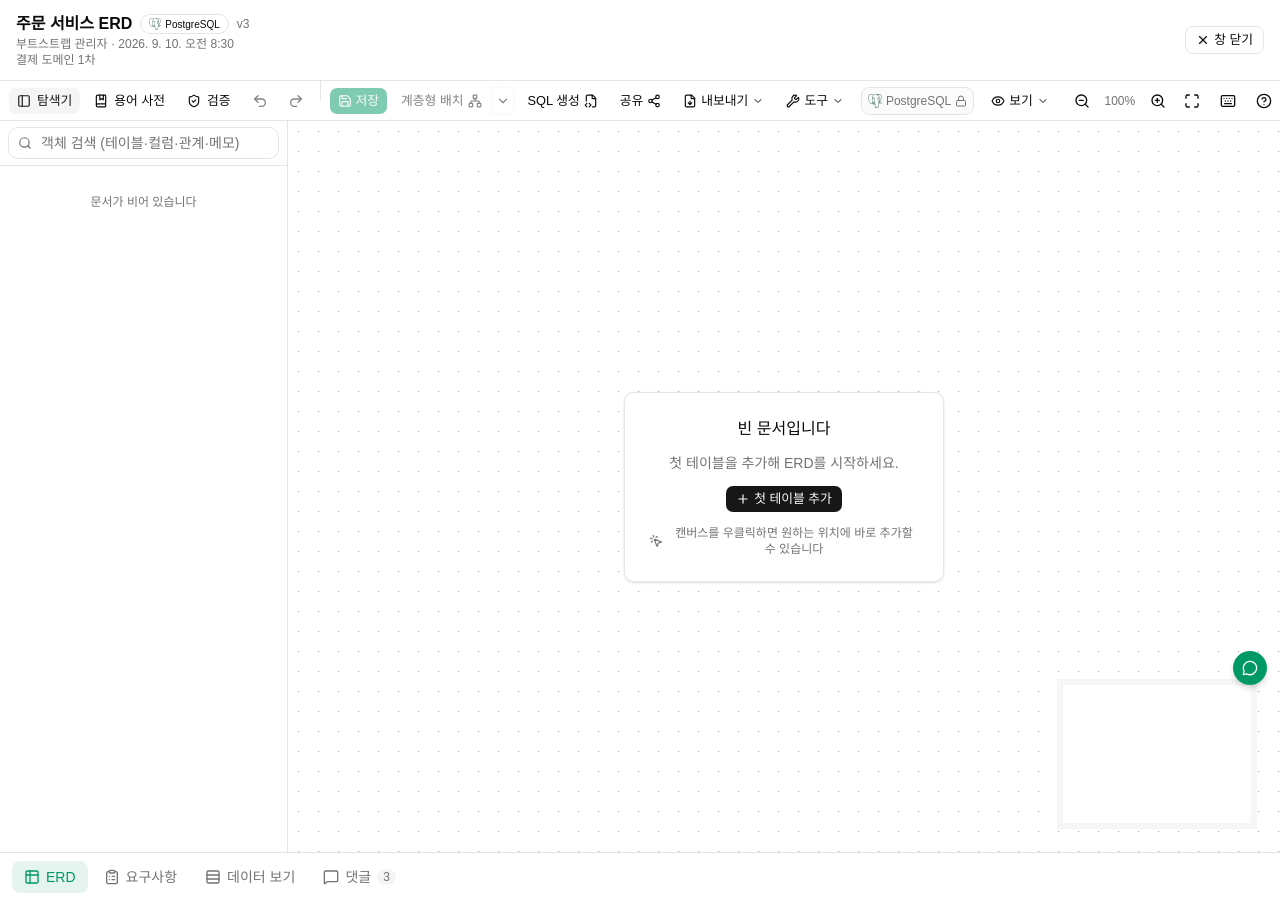
Scenario: ERD 문서 열기 › 요구사항 탭 — 캔버스를 감추고 요구사항 화면을 보여 준다. ERD 탭으로 돌아오면 에디터가 그대로다
Expected: the heading "주문 서비스 ERD" is shown, [16,12,132,36]
Click the tab "요구사항": point(140, 876) [92,860,189,892]
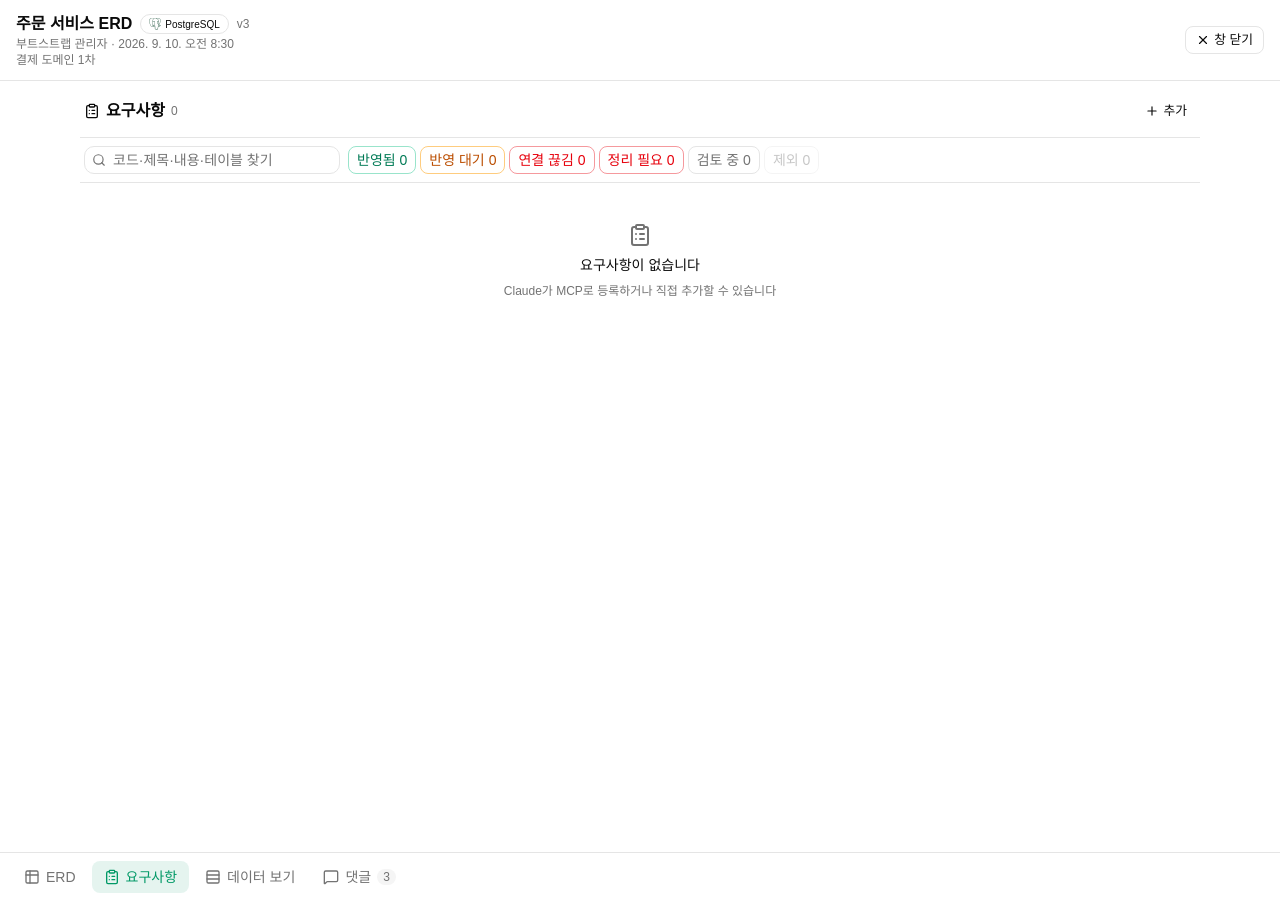
Now the element with test id "requirements-panel" is shown
Click the tab "ERD": point(50, 876) [12,860,88,892]
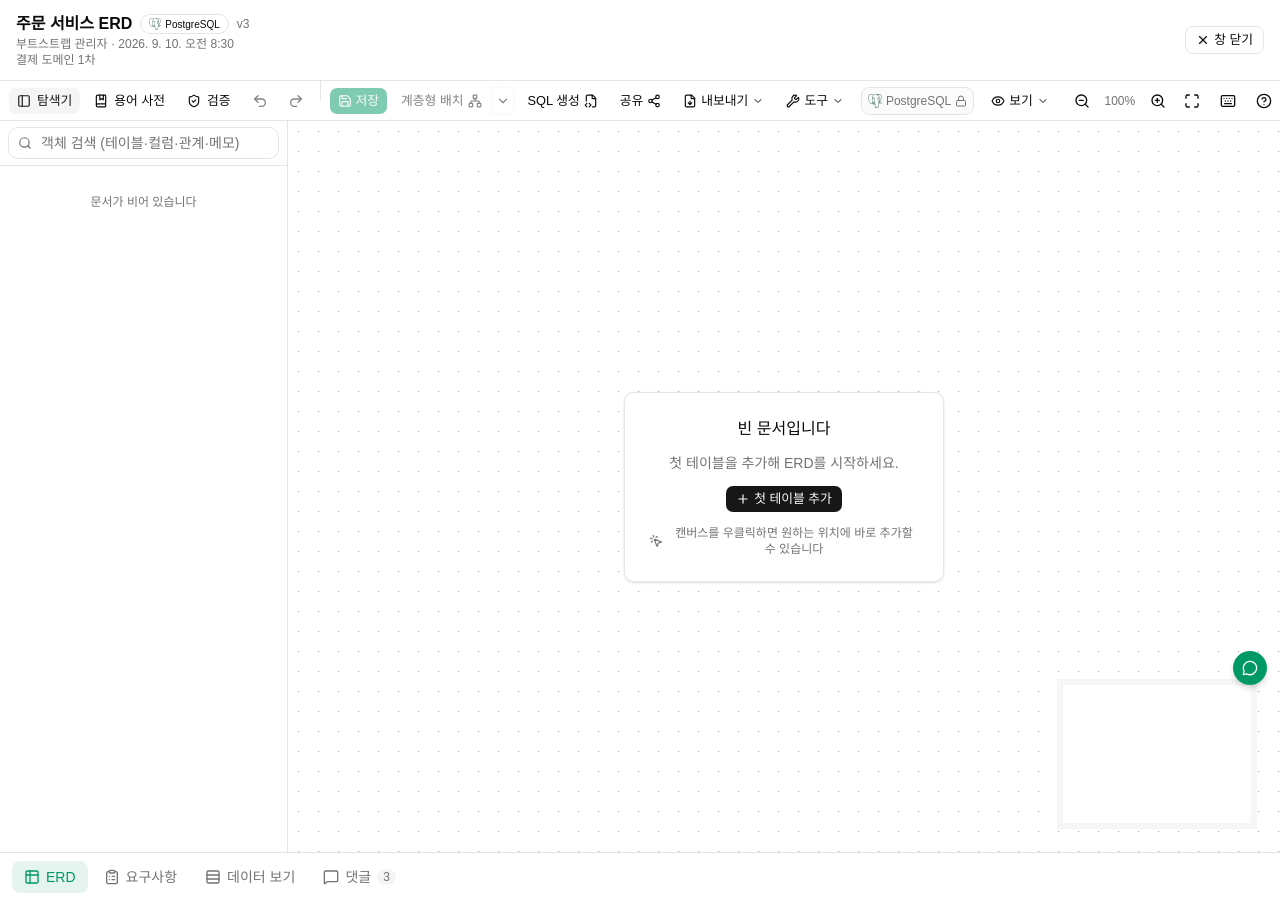
Now the element with test id "requirements-panel" is gone
